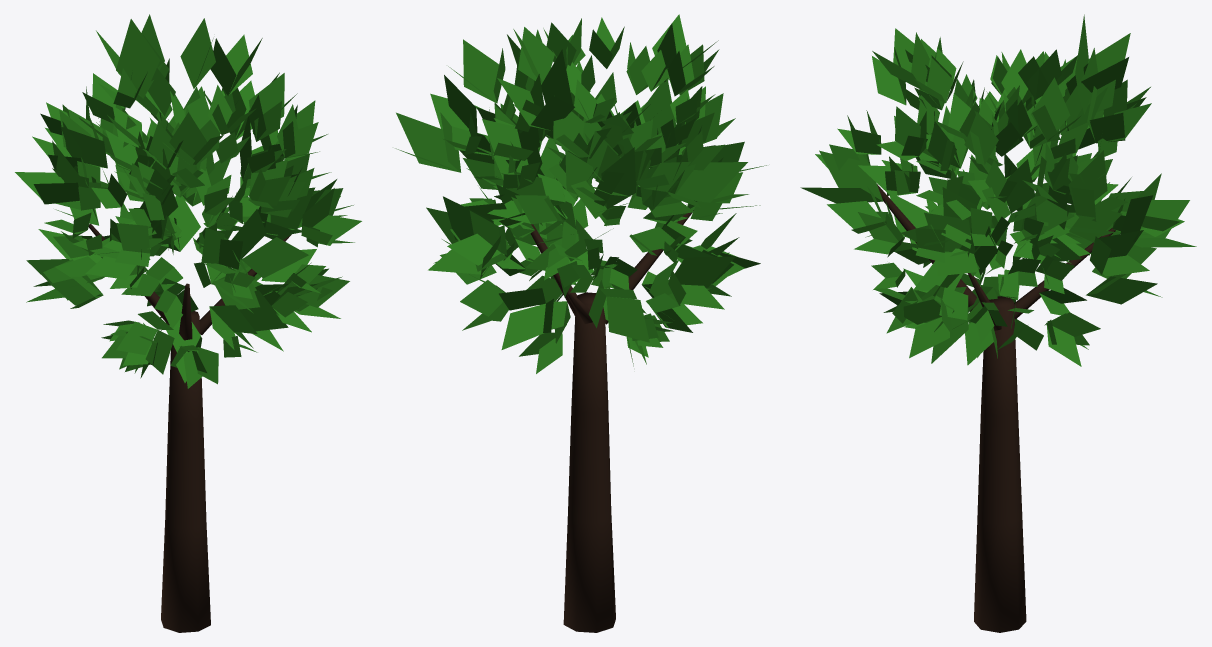
Rendered from Tree_05_A_LOD1.obj.
The picture shows the model from 3 angles, left to right: view 1: azimuth 30°, elevation 25°; view 2: azimuth 150°, elevation 25°; view 3: azimuth 270°, elevation 25°; orthographic projection. The views are drawn at different scales.
Visible parts, largest first — view 1: Leaves, Trunk; view 2: Leaves, Trunk; view 3: Leaves, Trunk.
Part boxes in pixels (<box>): Leaves: <box>15,14,361,388</box>; Trunk: <box>88,223,291,632</box>; Leaves: <box>395,14,766,373</box>; Trunk: <box>530,210,693,632</box>; Leaves: <box>800,14,1196,366</box>; Trunk: <box>877,184,1115,632</box>.
Bounding box in the file's own units: 2.97 × 5.64 × 3.38.
